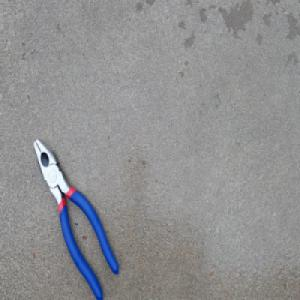Pliers: (32, 135, 119, 300)
